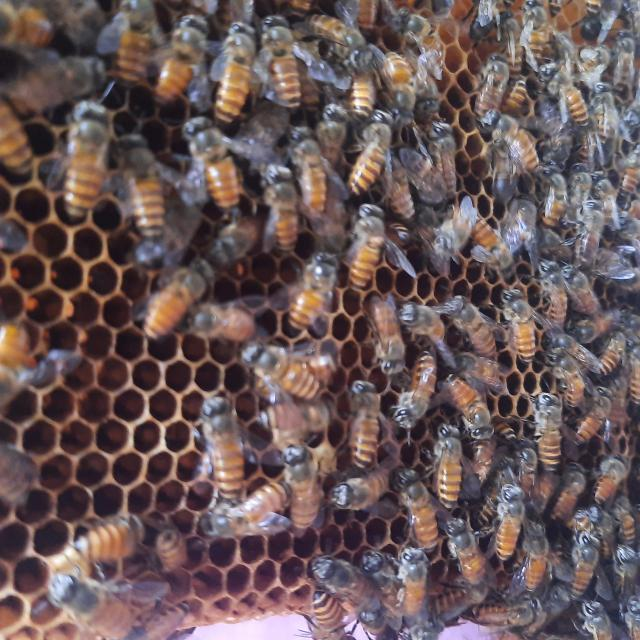honeybee: (240, 178, 323, 272), (255, 26, 327, 132), (43, 558, 135, 633), (49, 109, 118, 208), (45, 498, 160, 556), (389, 546, 462, 633), (321, 449, 417, 514), (182, 393, 246, 488), (216, 481, 297, 552), (177, 124, 259, 193), (206, 26, 266, 118), (274, 261, 355, 329), (334, 374, 411, 445), (103, 139, 171, 218), (192, 308, 306, 355), (160, 13, 218, 103), (424, 118, 492, 192), (436, 368, 507, 436), (278, 439, 334, 524), (560, 392, 618, 471), (532, 248, 582, 338), (312, 558, 372, 631), (537, 79, 597, 152), (424, 496, 482, 571), (237, 338, 319, 391), (278, 134, 349, 194), (381, 441, 424, 539), (419, 408, 466, 490), (569, 477, 607, 578), (488, 293, 554, 351), (546, 336, 601, 402), (137, 270, 218, 312), (404, 313, 503, 347), (98, 32, 160, 84), (349, 212, 400, 274), (571, 576, 618, 640), (558, 261, 606, 323), (520, 19, 567, 82), (430, 201, 490, 250), (456, 51, 502, 109), (513, 520, 554, 582), (601, 169, 640, 233), (514, 398, 562, 445), (503, 445, 524, 550), (381, 116, 415, 180), (539, 162, 571, 229), (618, 312, 640, 404), (20, 336, 68, 378), (336, 54, 370, 109), (502, 124, 534, 175)
